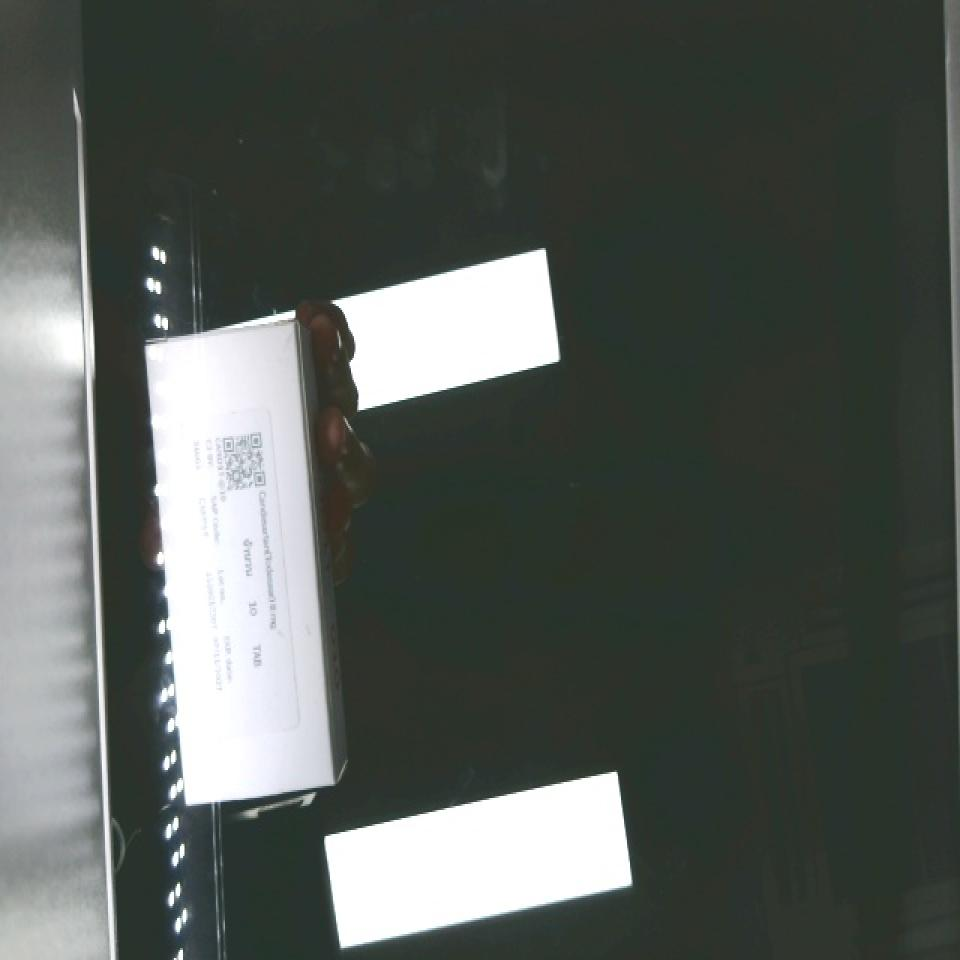medicine_box: (147, 327, 338, 806)
qr_code: (206, 410, 279, 512)
